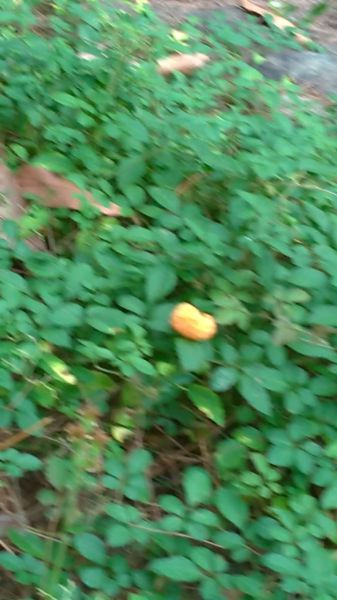eggs: (166, 298, 219, 344)
